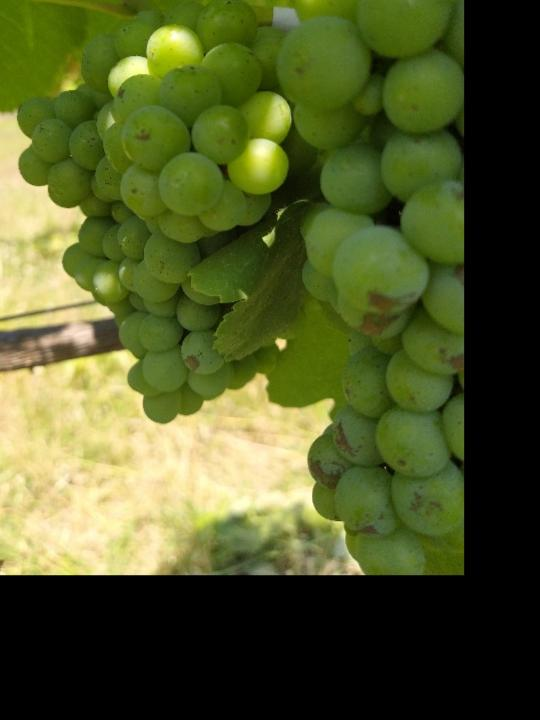grape: (13, 0, 278, 429)
